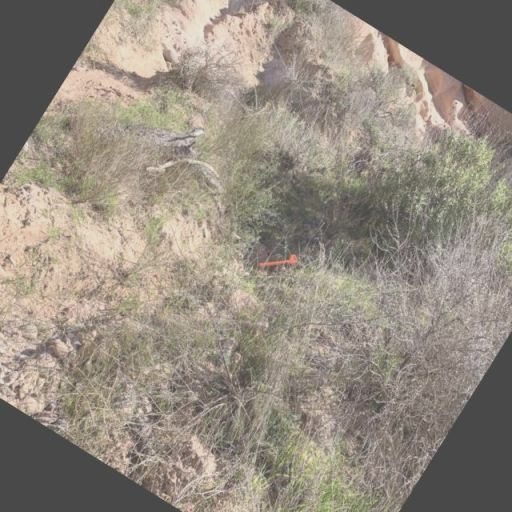mallet: (256, 236, 302, 284)
